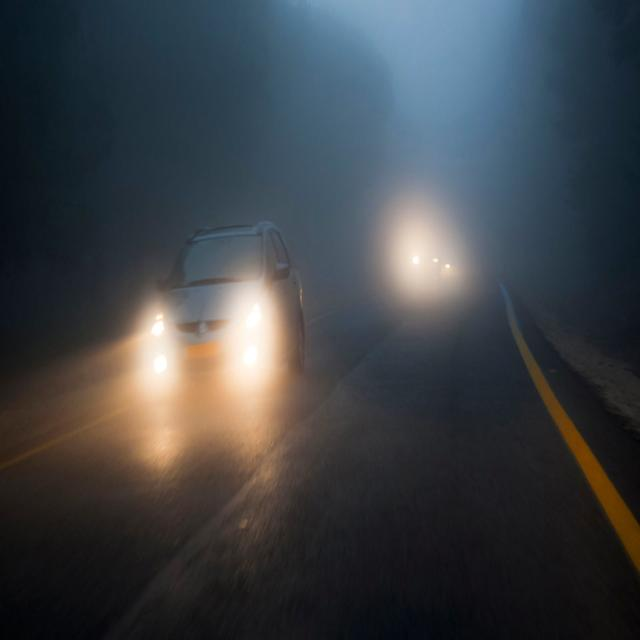car: (148, 222, 302, 389), (409, 230, 442, 277)
